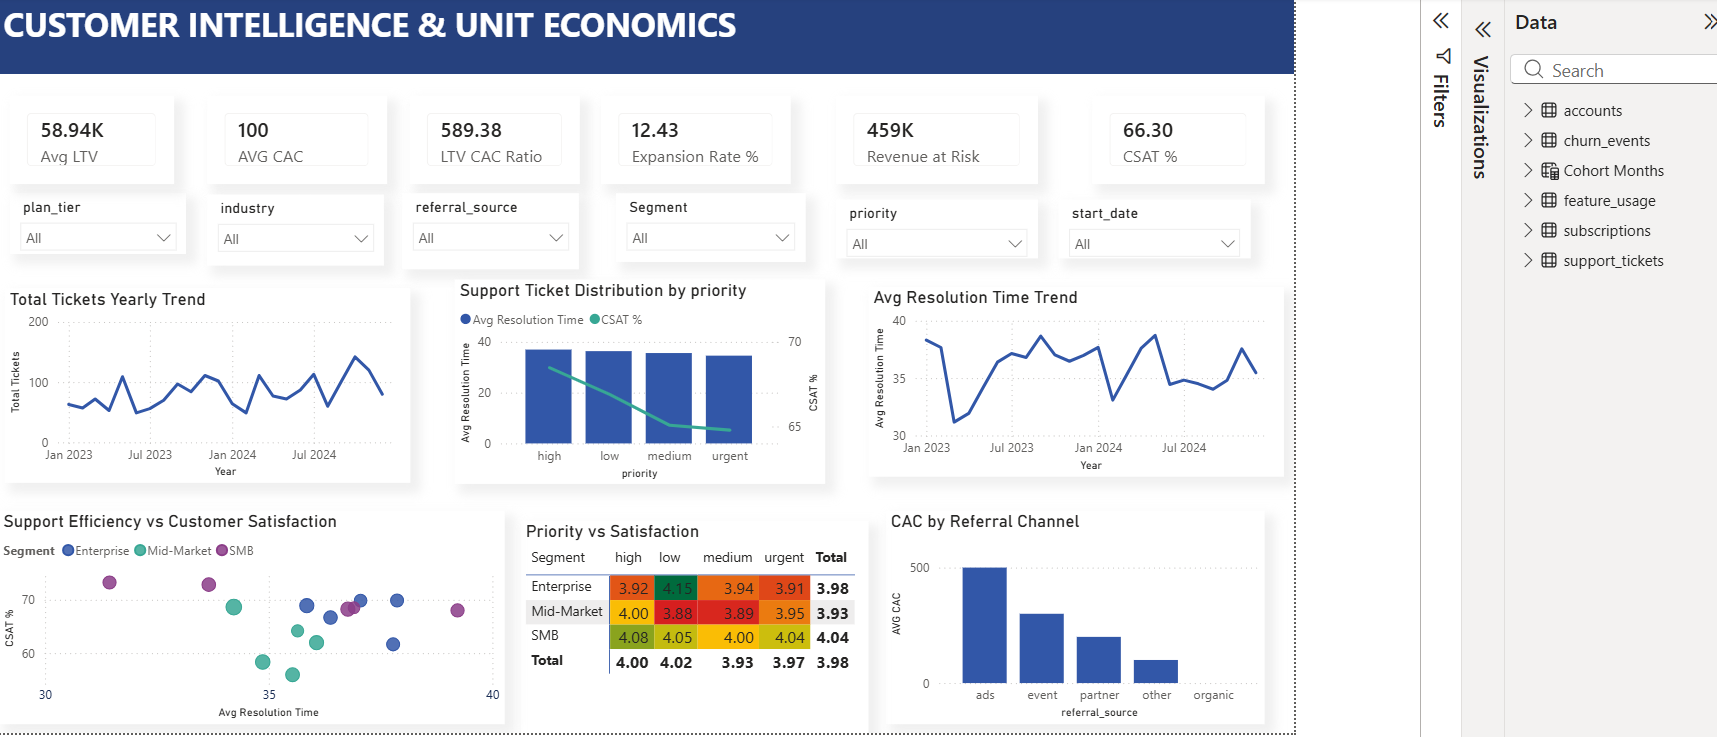

Layout of this report page (visuals, bound fields, positions):
{"tool":"powerbi","page":{"name":"Page 3","canvas":[1280,720],"ordinal":2},"visuals":[{"type":"cardVisual","title":"LTV","fields":{"Data":["subscriptions.Avg LTV"]},"box":[23.3,96.1,160.5,86.4],"z":0},{"type":"cardVisual","fields":{"Data":["subscriptions.AVG CAC"]},"box":[216.8,96.1,175.6,86.4],"z":1000},{"type":"cardVisual","fields":{"Data":["subscriptions.LTV CAC Ratio"]},"box":[414.4,96.1,166,86.4],"z":2000},{"type":"cardVisual","fields":{"Data":["subscriptions.Expansion Rate %"]},"box":[601,96.1,185.2,86.4],"z":3000},{"type":"cardVisual","fields":{"Data":["subscriptions.Revenue at Risk"]},"box":[831.6,96.1,197.6,86.4],"z":4000},{"type":"cardVisual","fields":{"Data":["support_tickets.CSAT %"]},"box":[1082.7,96.1,168.8,86.4],"z":5000},{"type":"slicer","fields":{"Values":["subscriptions.plan_tier"]},"box":[23.3,192.1,172.9,59],"z":6000},{"type":"slicer","fields":{"Values":["accounts.industry"]},"box":[216.8,193.5,172.9,70],"z":7000},{"type":"slicer","fields":{"Values":["accounts.referral_source"]},"box":[407.5,192.1,172.9,74.1],"z":8000},{"type":"slicer","fields":{"Values":["accounts.Segment"]},"box":[616.1,192.1,185.2,67.2],"z":9000},{"type":"slicer","fields":{"Values":["support_tickets.priority"]},"box":[831.6,197.6,197.6,57.6],"z":10000},{"type":"columnChart","title":"CAC by Referral Channel","fields":{"Category":["accounts.referral_source"],"Y":["subscriptions.AVG CAC"]},"box":[881,502.2,370.5,208.6],"z":11000},{"type":"pivotTable","title":"Priority vs Satisfaction","fields":{"Values":["support_tickets.Avg Satisfaction"],"Rows":["accounts.Segment"],"Columns":["support_tickets.priority"]},"box":[522.8,511.8,340.3,208.6],"z":12000},{"type":"slicer","fields":{"Values":["subscriptions.start_date"]},"box":[1049.7,197.6,188,57.6],"z":13000},{"type":"lineChart","title":"Total Tickets Yearly Trend","fields":{"Y":["support_tickets.Total Tickets"],"Category":["accounts.signup_date.Variation.Date Hierarchy.Year","accounts.signup_date.Variation.Date Hierarchy.Month"]},"box":[17.8,285.4,396.6,190.7],"z":14000},{"type":"lineChart","title":"Avg Resolution Time Trend","fields":{"Y":["support_tickets.Avg Resolution Time"],"Category":["accounts.signup_date.Variation.Date Hierarchy.Year","accounts.signup_date.Variation.Date Hierarchy.Month"]},"box":[863.1,284,406.2,185.2],"z":15000},{"type":"lineClusteredColumnComboChart","title":"Support Ticket Distribution by priority","fields":{"Y2":["support_tickets.CSAT %"],"Category":["support_tickets.priority"],"Y":["support_tickets.Avg Resolution Time"]},"box":[458.3,275.8,362.3,200.3],"z":16000},{"type":"scatterChart","title":"Support Efficiency vs Customer Satisfaction","fields":{"X":["support_tickets.Avg Resolution Time"],"Y":["support_tickets.CSAT %"],"Size":["support_tickets.Total Tickets"],"Series":["accounts.Segment"],"Category":["accounts.industry"]},"box":[12.3,502.2,495.4,208.6],"z":17000},{"type":"shape","box":[12.3,0,1267.9,75.5],"z":18000},{"type":"textbox","box":[12.3,0,1267.9,75.5],"z":19000}]}

Visuals, with their boxes on the page's 1280x720 design canvas (x1, y1, x2, y2). These are canvas units, not pixel positions in the 1717x737 screenshot, which may show the page scaled, cropped or inside an application window:
"LTV" cardVisual: locate(23, 96, 184, 182)
cardVisual - subscriptions.AVG CAC: locate(217, 96, 392, 182)
cardVisual - subscriptions.LTV CAC Ratio: locate(414, 96, 580, 182)
cardVisual - subscriptions.Expansion Rate %: locate(601, 96, 786, 182)
cardVisual - subscriptions.Revenue at Risk: locate(832, 96, 1029, 182)
cardVisual - support_tickets.CSAT %: locate(1083, 96, 1252, 182)
slicer - subscriptions.plan_tier: locate(23, 192, 196, 251)
slicer - accounts.industry: locate(217, 194, 390, 264)
slicer - accounts.referral_source: locate(408, 192, 580, 266)
slicer - accounts.Segment: locate(616, 192, 801, 259)
slicer - support_tickets.priority: locate(832, 198, 1029, 255)
"CAC by Referral Channel" columnChart: locate(881, 502, 1252, 711)
"Priority vs Satisfaction" pivotTable: locate(523, 512, 863, 720)
slicer - subscriptions.start_date: locate(1050, 198, 1238, 255)
"Total Tickets Yearly Trend" lineChart: locate(18, 285, 414, 476)
"Avg Resolution Time Trend" lineChart: locate(863, 284, 1269, 469)
"Support Ticket Distribution by priority" lineClusteredColumnComboChart: locate(458, 276, 821, 476)
"Support Efficiency vs Customer Satisfaction" scatterChart: locate(12, 502, 508, 711)
shape: locate(12, 0, 1280, 76)
textbox: locate(12, 0, 1280, 76)
